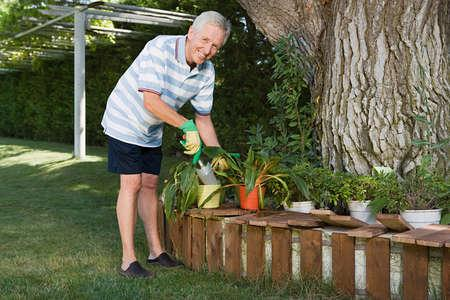person: (101, 13, 233, 281)
